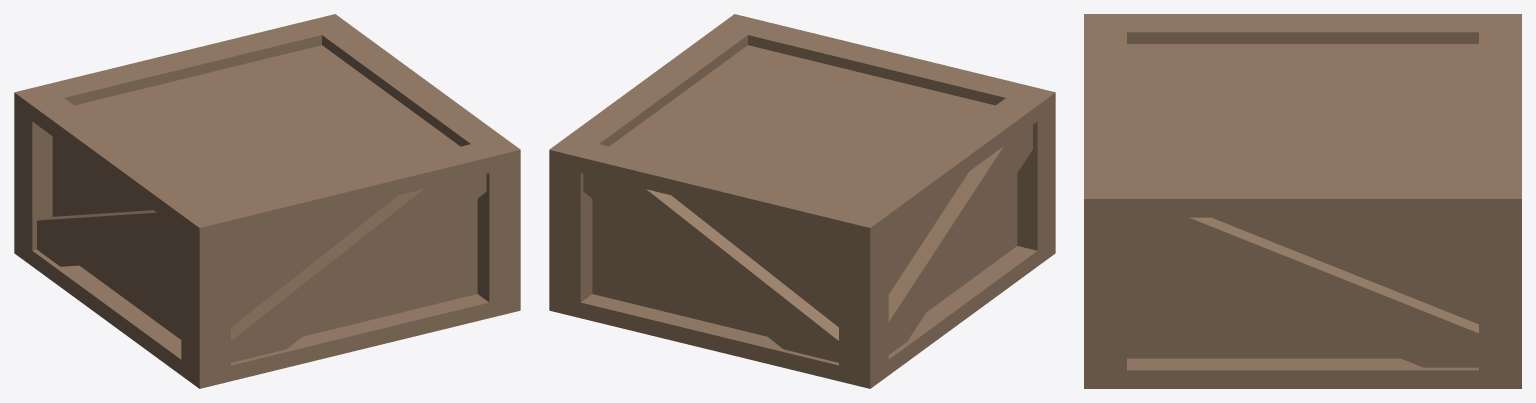
File: crate_2.fbx
The picture shows the model from 3 angles, left to right: view 1: azimuth 30°, elevation 25°; view 2: azimuth 150°, elevation 25°; view 3: azimuth 270°, elevation 25°; orthographic projection. The views are drawn at different scales.
Visible parts, largest first — view 1: crate_2; view 2: crate_2; view 3: crate_2.
Boxes of the visible parts, x1=… form: crate_2: x1=14, y1=14, x2=520, y2=388; crate_2: x1=549, y1=14, x2=1055, y2=388; crate_2: x1=1084, y1=14, x2=1521, y2=388.
Bounding box in the file's own units: 71.68 × 34.31 × 71.68.
